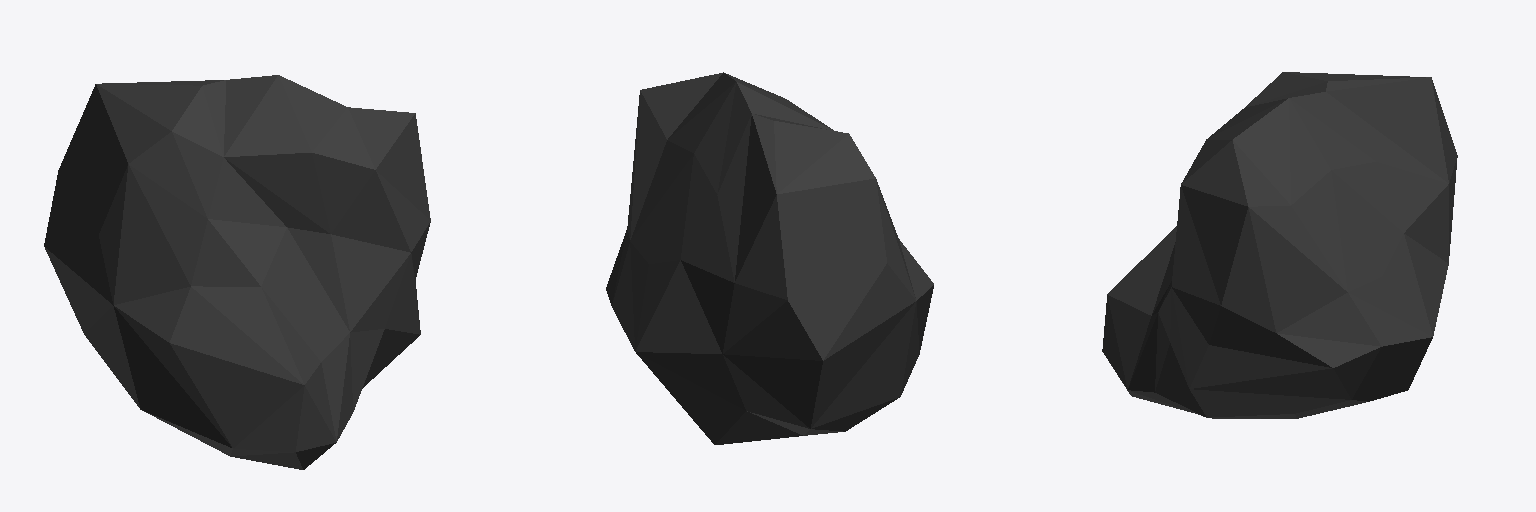
The model's file is Ast3.obj.
The picture shows the model from 3 angles: view 1: azimuth 30°, elevation 25°; view 2: azimuth 150°, elevation 25°; view 3: azimuth 270°, elevation 25°; orthographic projection.
Visible parts, largest first — view 1: Asteroid_2.001; view 2: Asteroid_2.001; view 3: Asteroid_2.001.
Boxes of the visible parts, <box> form: Asteroid_2.001: <box>44,75,430,469</box>; Asteroid_2.001: <box>606,72,933,444</box>; Asteroid_2.001: <box>1102,72,1457,418</box>.
Bounding box in the file's own units: 73.5 × 82.59 × 77.7.